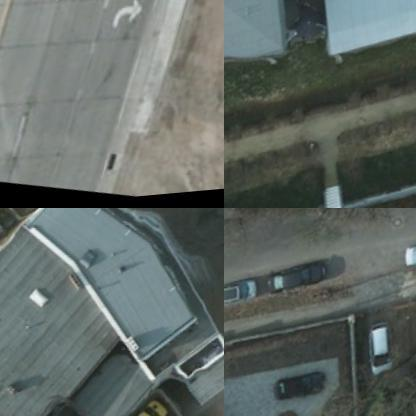car: (356, 322, 406, 382), (266, 254, 329, 300), (270, 363, 334, 408), (224, 273, 263, 318), (396, 232, 415, 280)
